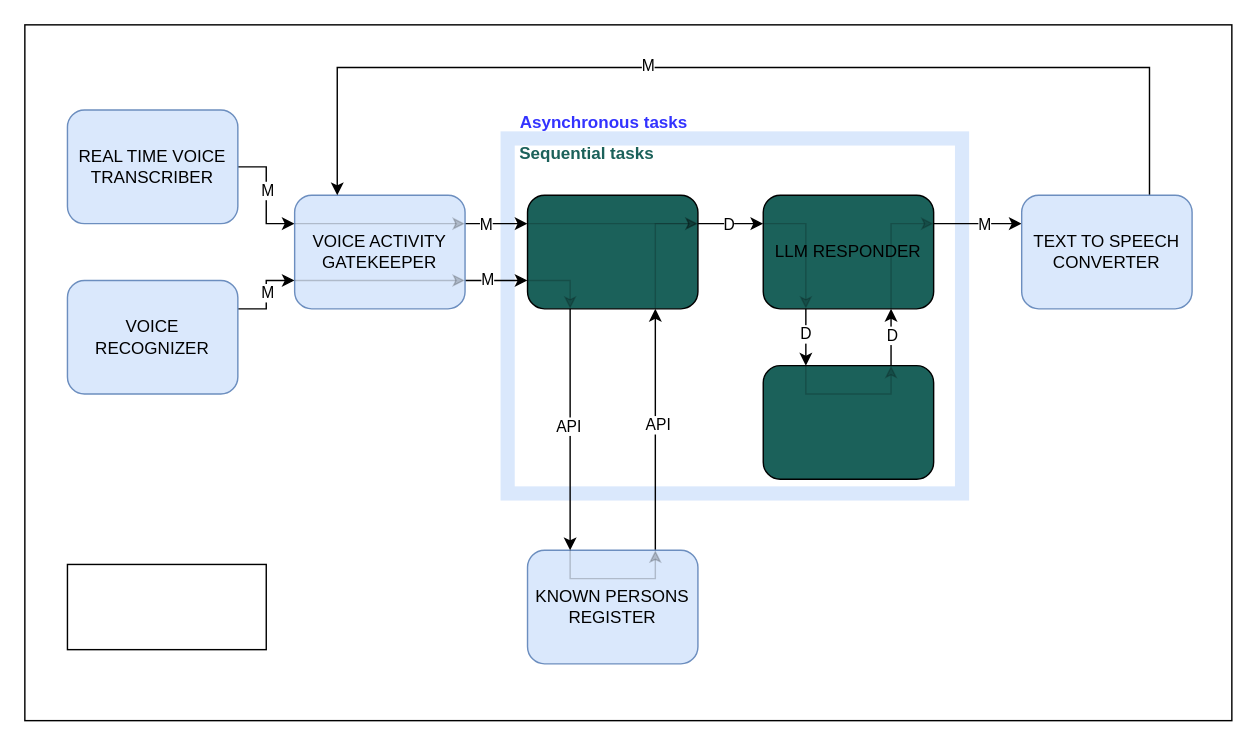
The diagram is 1257 pixels wide and 746 high, and some of its shapes have lost their labels. Each missing label, with the centre of its shape:
M: Messagepassing API: API calls D: Dependency injection: point (166, 606)
MEMORY ARCHIVER: point (848, 421)
TRANSCRIPTION FORMATER: point (612, 251)
